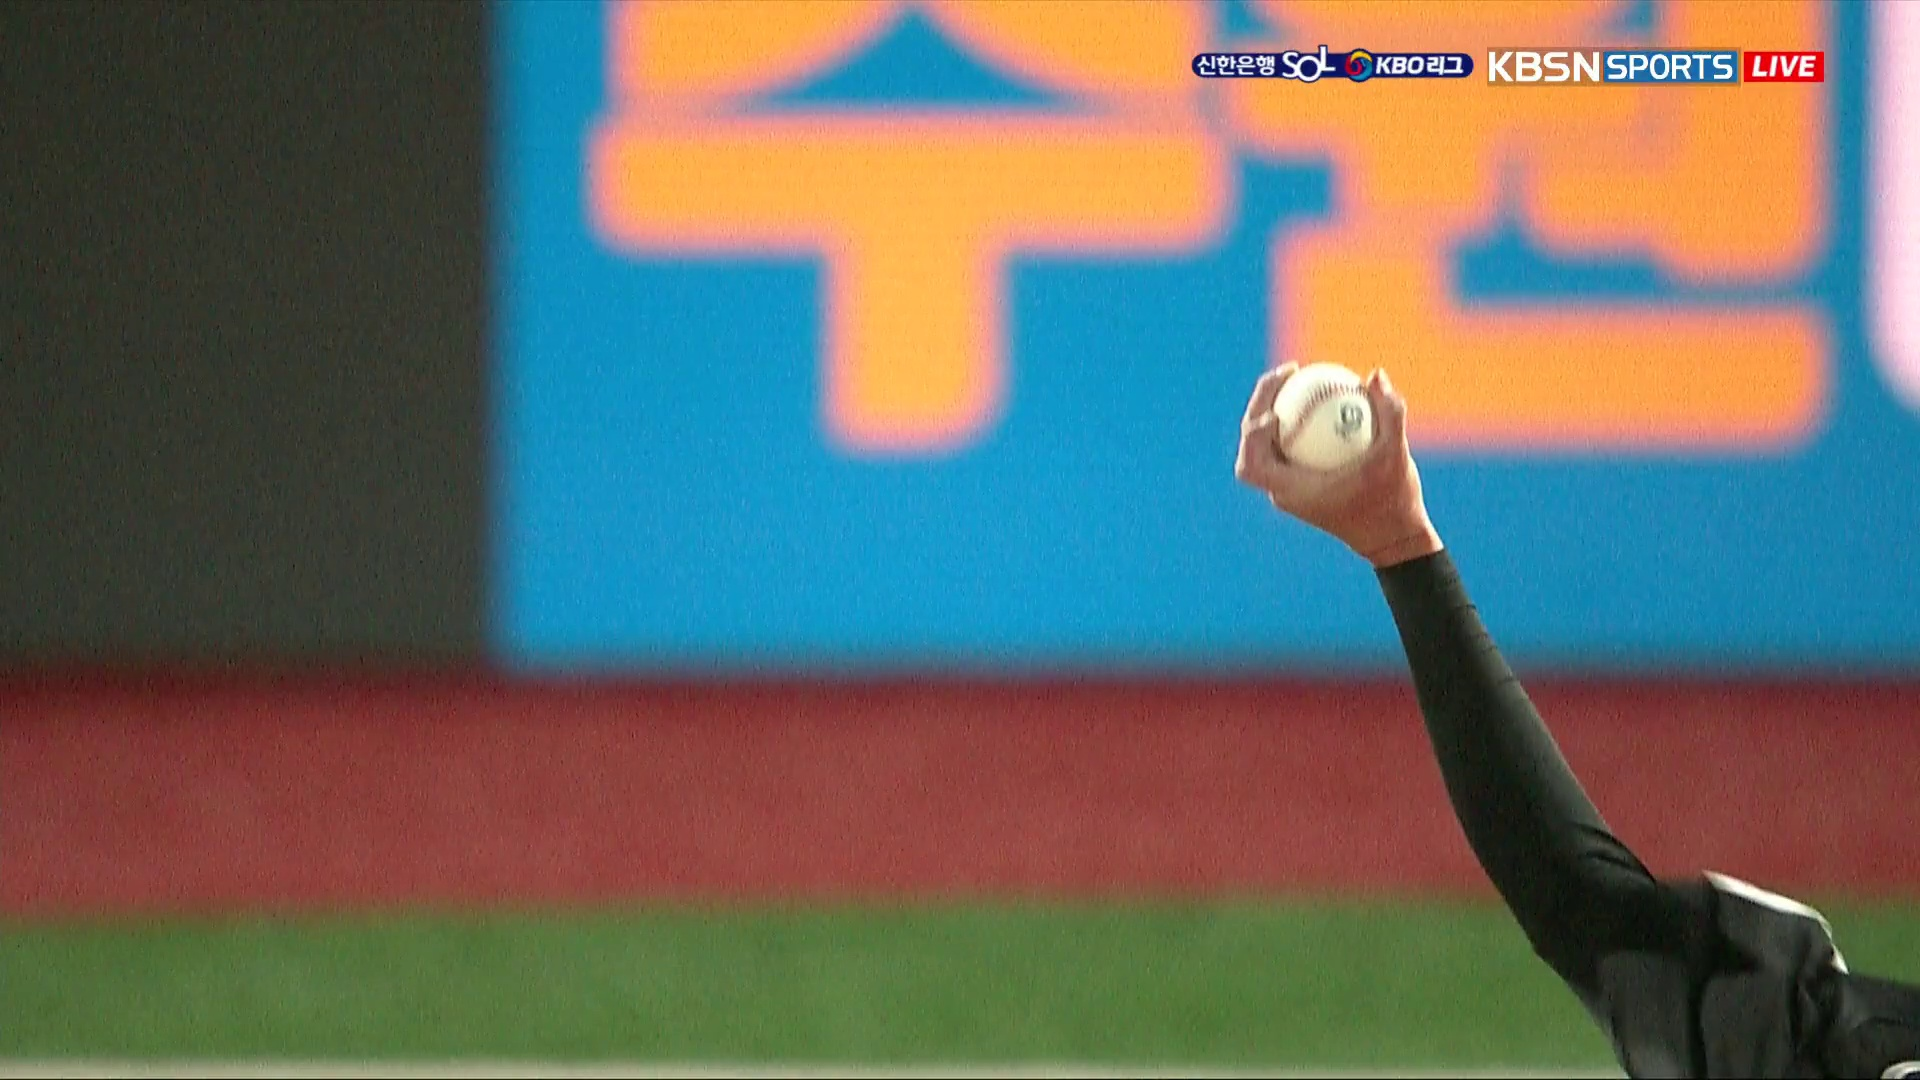zoomin_hand: (1226, 356, 1676, 1005)
